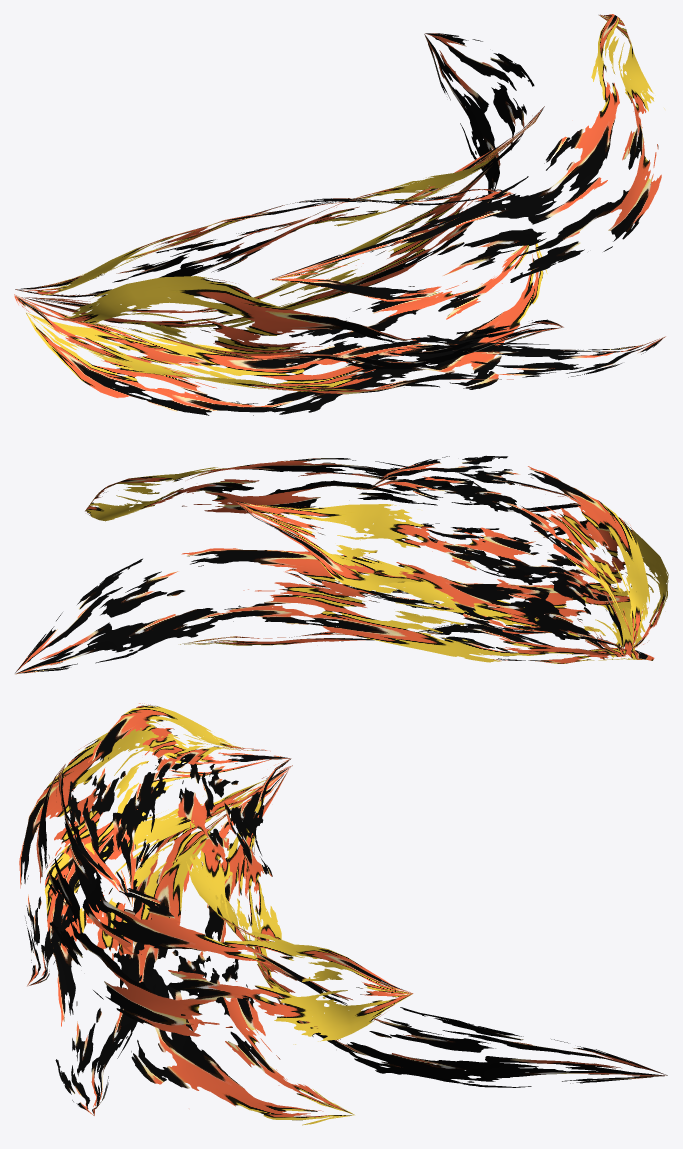
Rendered from SM_e_Plc_P0012_SwordFireBright000.fbx.
3 renders of one model, top to bottom at view 1: azimuth 30°, elevation 25°; view 2: azimuth 150°, elevation 25°; view 3: azimuth 270°, elevation 25°, orthographic. The views are drawn at different scales.
Visible parts, largest first — view 1: SM_e_Plc_P0012_SwordFireBright000.001; view 2: SM_e_Plc_P0012_SwordFireBright000.001; view 3: SM_e_Plc_P0012_SwordFireBright000.001.
Part boxes in pixels (x1,y1,x2,y2): SM_e_Plc_P0012_SwordFireBright000.001: (14,14,665,415); SM_e_Plc_P0012_SwordFireBright000.001: (15,455,668,674); SM_e_Plc_P0012_SwordFireBright000.001: (19,703,667,1125).
Bounding box in the file's own units: 320 × 118 × 280.
